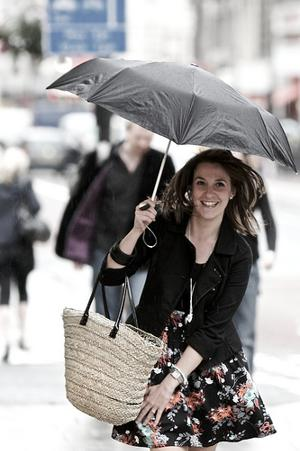person: (100, 150, 277, 450)
